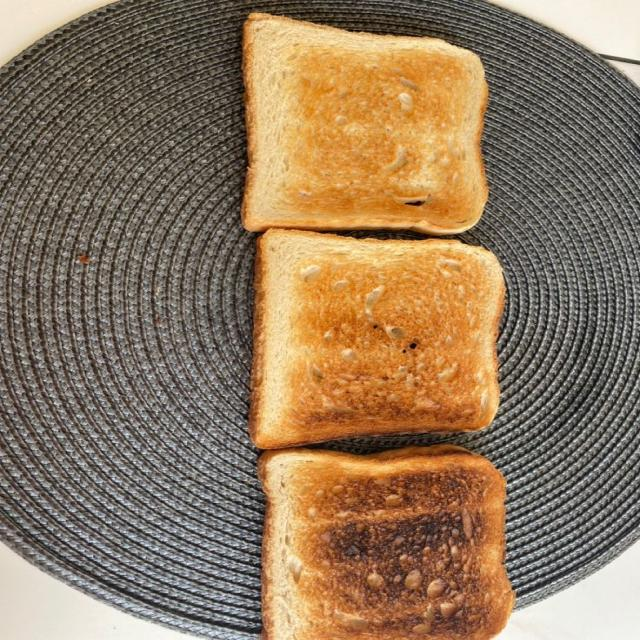toast bread: (249, 230, 504, 448), (242, 14, 487, 234), (259, 445, 513, 639)
